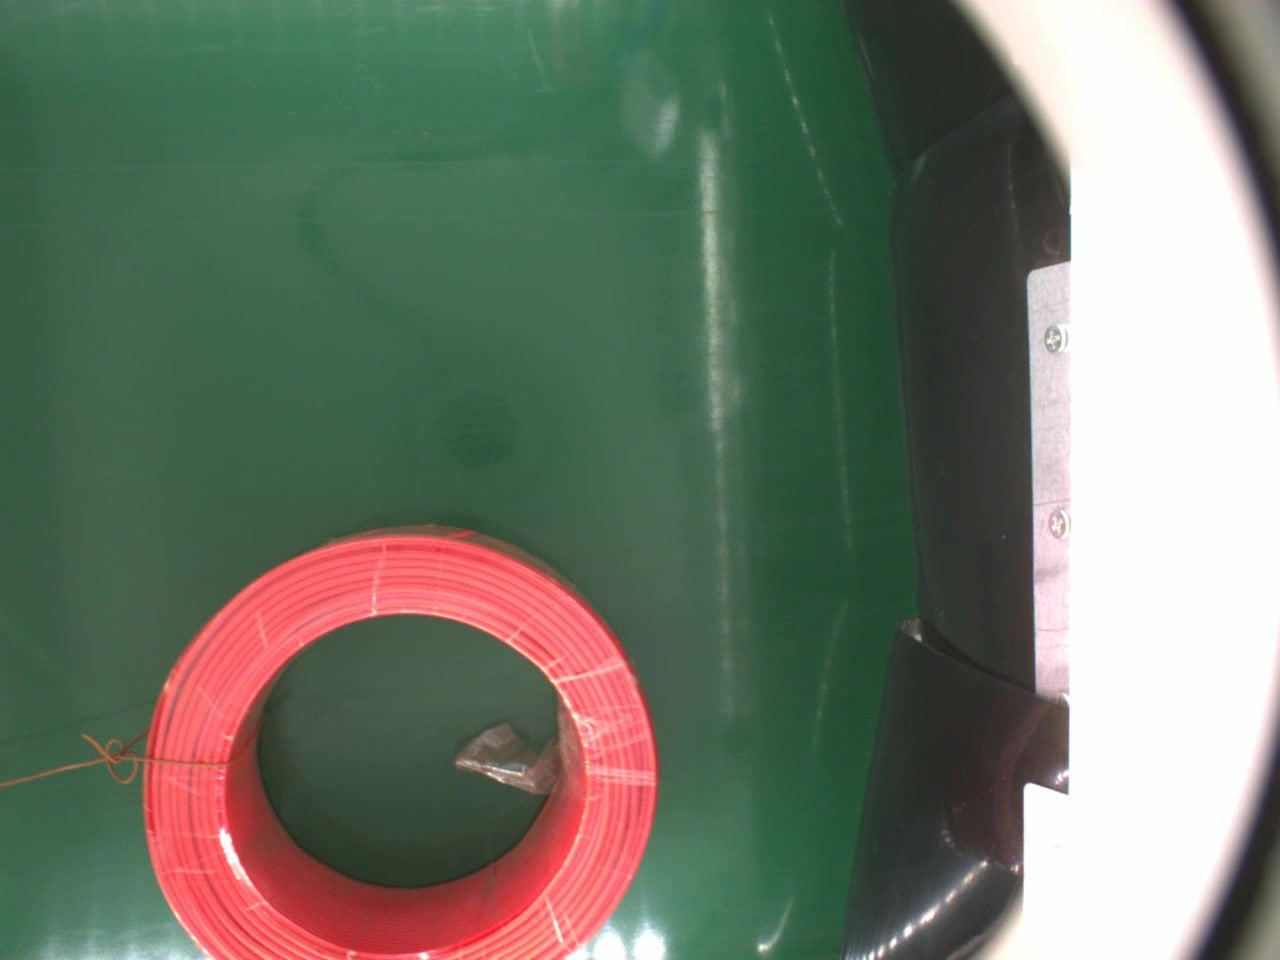red: (123, 518, 655, 960)
